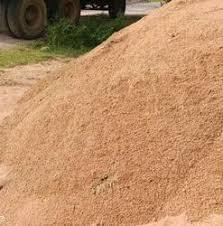sand: (100, 93, 125, 115), (151, 83, 175, 105), (175, 124, 198, 145), (151, 164, 173, 185), (194, 66, 214, 88), (115, 199, 139, 217), (125, 129, 146, 148)
